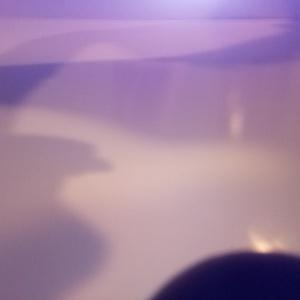dead_ball: (145, 251, 300, 300)
